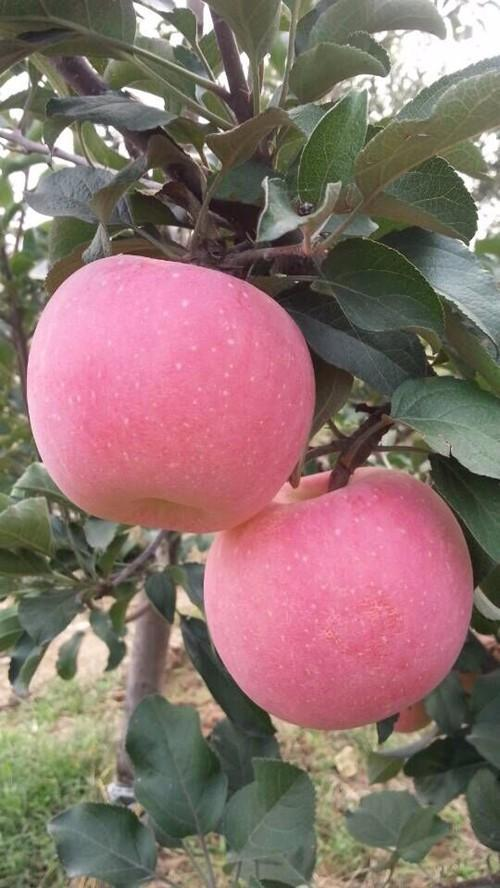apple: (22, 248, 317, 533), (204, 467, 475, 733)
